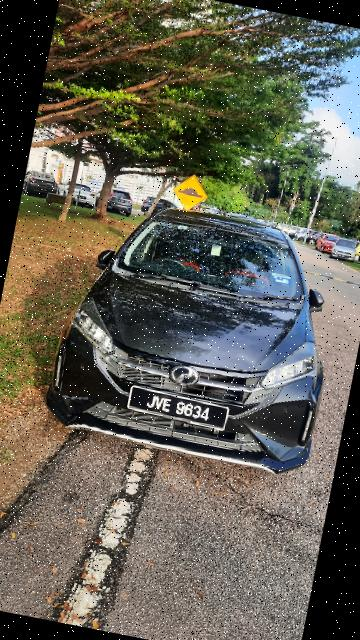License_Plate: (120, 380, 234, 435)
car: (37, 173, 360, 483)
